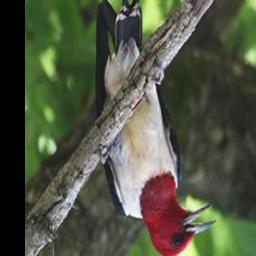Woodpecker: (90, 0, 220, 256)
